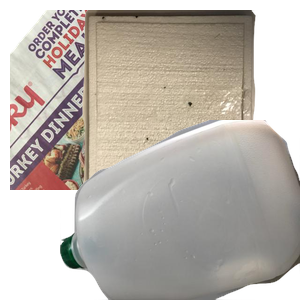glass: (68, 120, 255, 300)
paper: (10, 10, 247, 190)
plastic: (60, 120, 300, 300)
trash: (80, 10, 300, 190)
